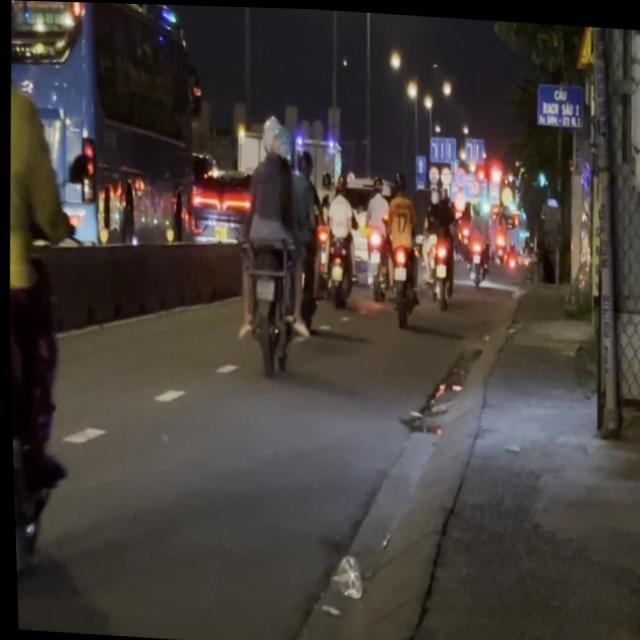helmet: (258, 113, 280, 154), (270, 122, 292, 161)
licenseplate: (0, 0, 90, 603), (227, 107, 324, 380)
nohelmet: (253, 276, 273, 300)
